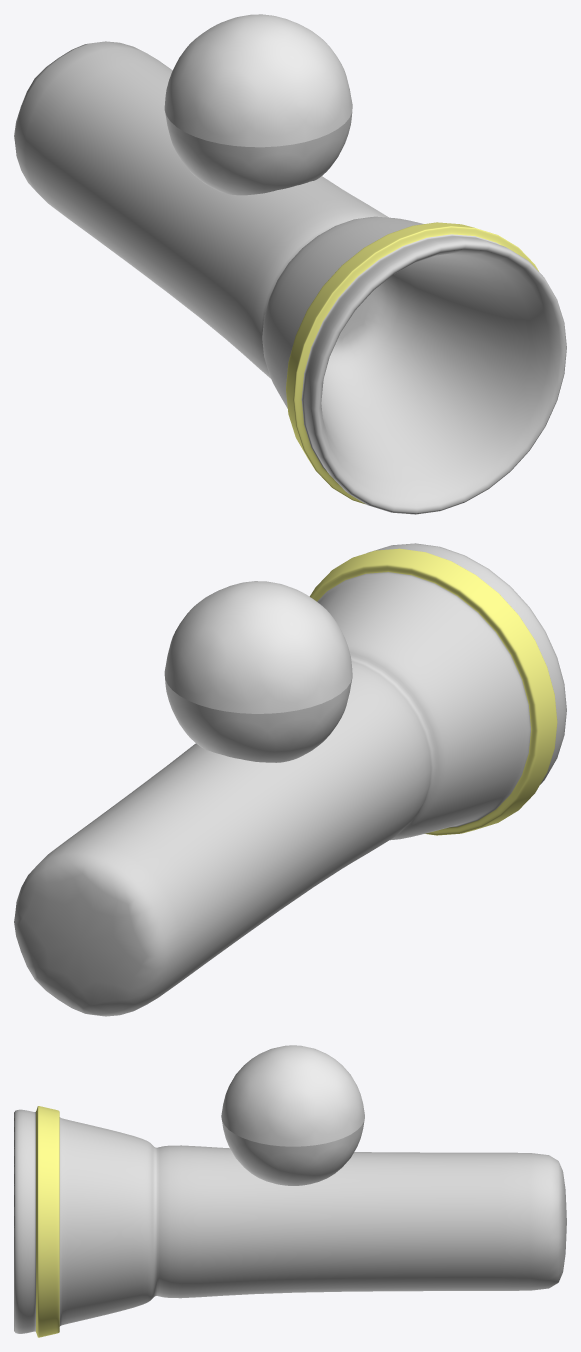
The model's file is HeroGun_02.fbx.
3 views of the same model, one above another, from view 1: azimuth 30°, elevation 25°; view 2: azimuth 150°, elevation 25°; view 3: azimuth 270°, elevation 25° (orthographic). The views are drawn at different scales.
Visible parts, largest first — view 1: Cylinder, Icosphere.001, Icosphere; view 2: Cylinder, Icosphere.001, Icosphere; view 3: Cylinder, Icosphere.001, Icosphere.
Part boxes in pixels (box(x1,y1,x2,y2)): Cylinder: box(14, 41, 566, 514); Icosphere.001: box(164, 14, 352, 147); Icosphere: box(164, 110, 352, 195); Cylinder: box(14, 543, 566, 1016); Icosphere.001: box(164, 581, 352, 713); Icosphere: box(165, 677, 352, 762); Cylinder: box(14, 1106, 566, 1337); Icosphere.001: box(221, 1045, 364, 1146); Icosphere: box(221, 1118, 364, 1185).
Size of the model in its own units: 302 by 396 by 720.
